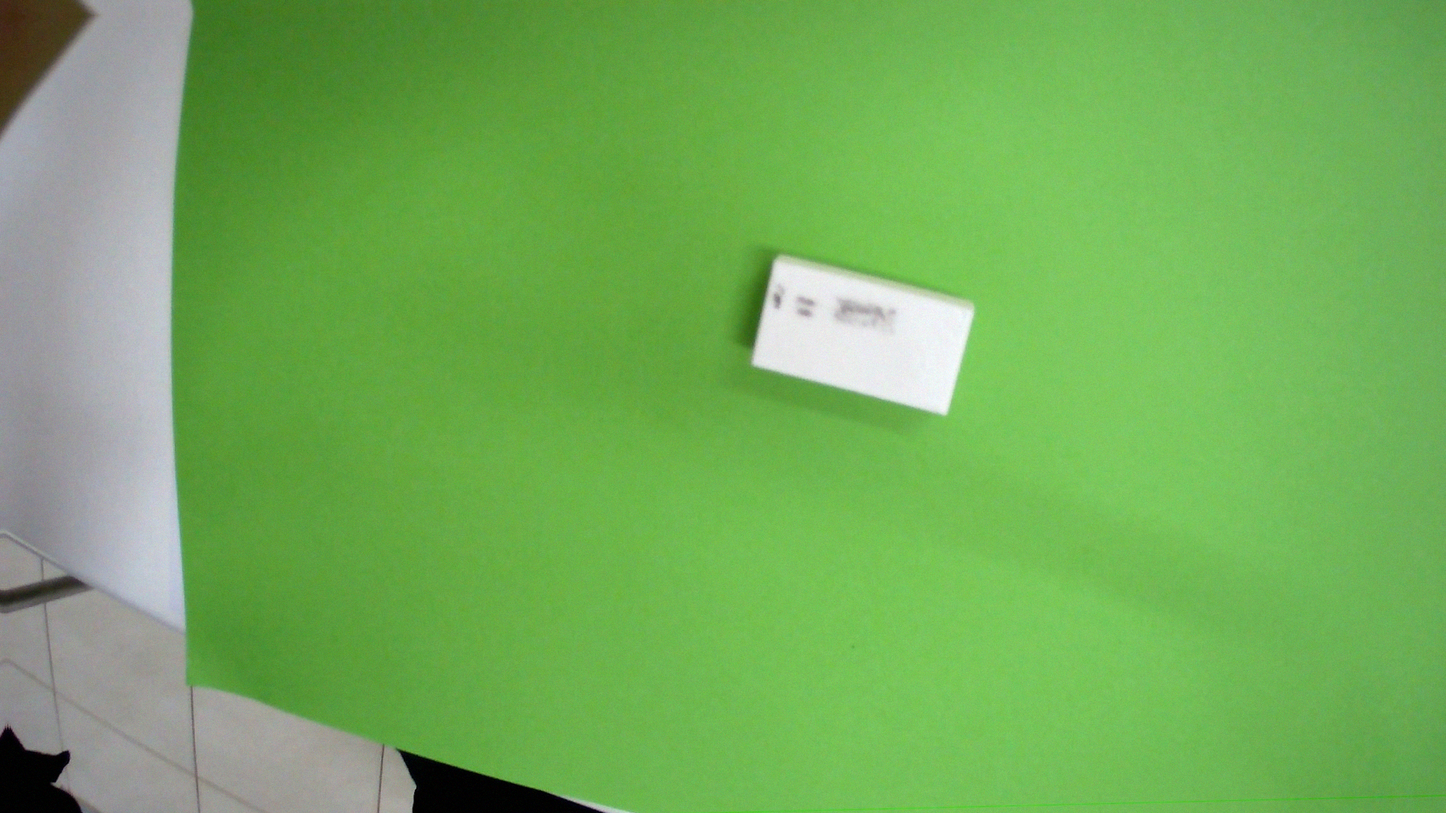gom: (736, 246, 978, 420)
